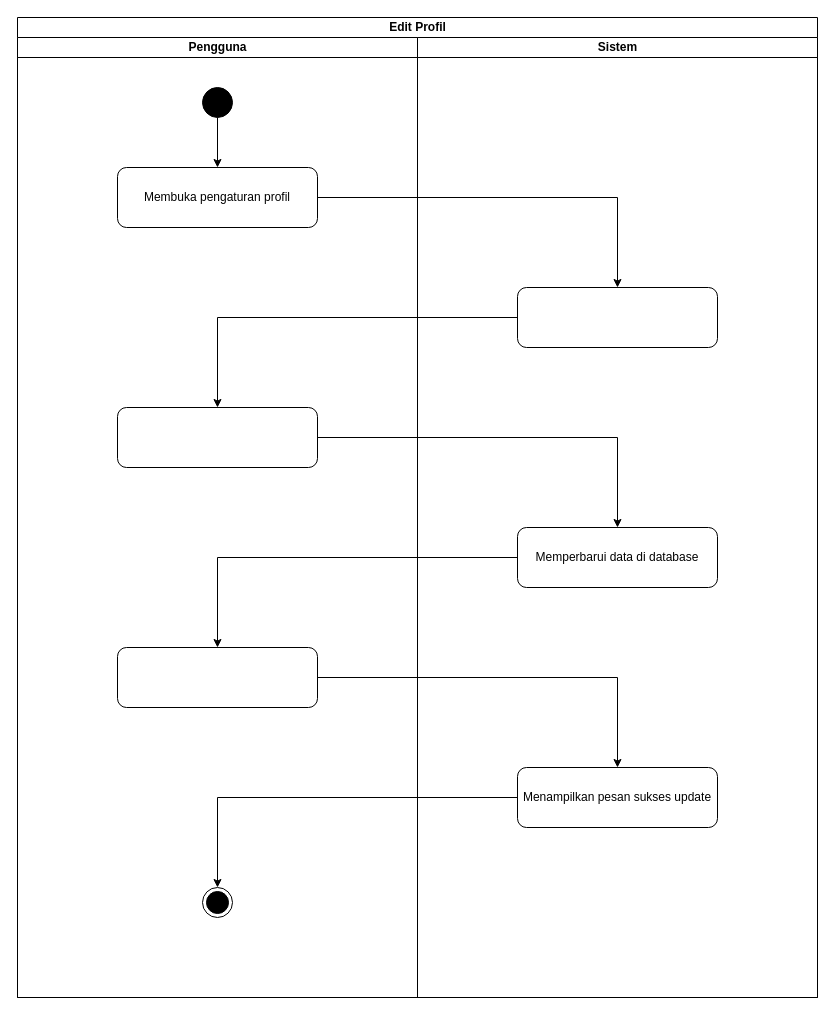
Some shapes in this 835 by 1015 pixel diagram are drawn without their labels. Each missing label, with the centre of its shape:
Klik simpan: the point at 217,677
Menampilkan data profil saat ini: the point at 617,317
Mengubah data diri/foto: the point at 217,437
